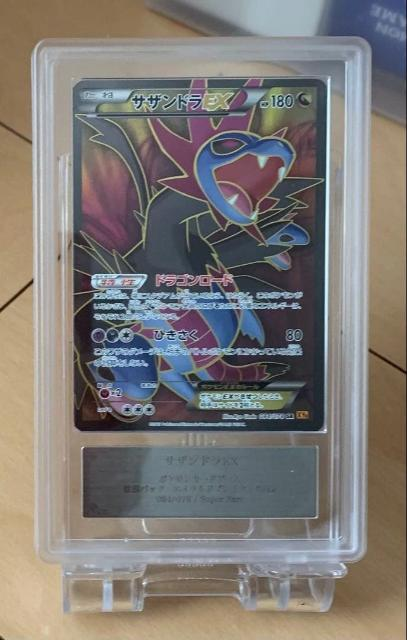Card: (69, 75, 333, 434)
Name: (128, 89, 240, 114)
